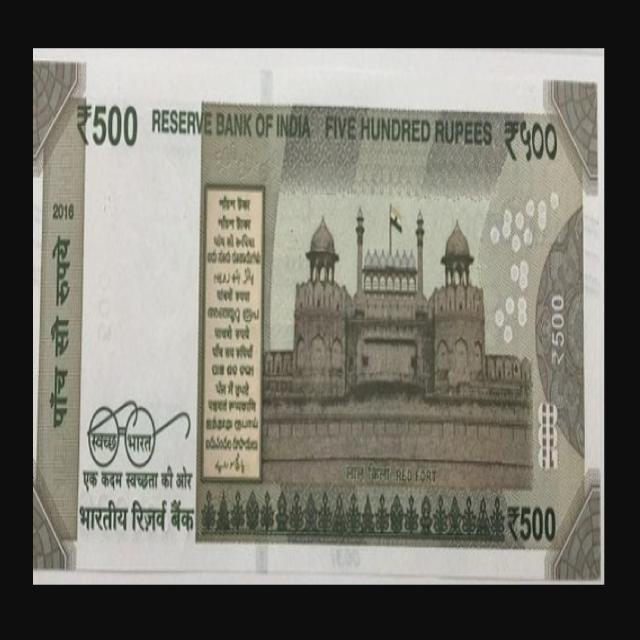500IndianRupees: (32, 51, 600, 577)
